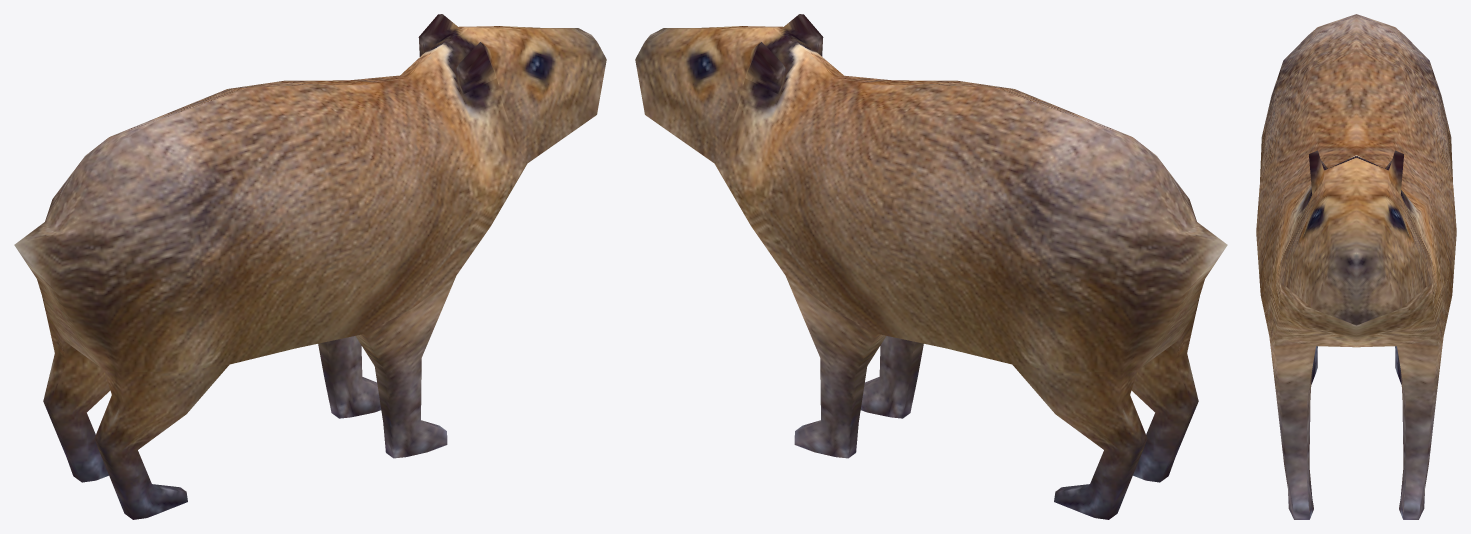
File: capybara_ps1_style.glb
3 renders of one model, left to right at view 1: azimuth 30°, elevation 25°; view 2: azimuth 150°, elevation 25°; view 3: azimuth 270°, elevation 25°, orthographic. The views are drawn at different scales.
Visible parts, largest first — view 1: Plane; view 2: Plane; view 3: Plane.
Boxes of the visible parts, bbox=[...] form: Plane: bbox=[14, 14, 606, 519]; Plane: bbox=[635, 14, 1227, 519]; Plane: bbox=[1256, 14, 1456, 519].
Size of the model in its own units: 2.1 by 1.31 by 0.6086.
Materials: 1 (1 with a texture image).
